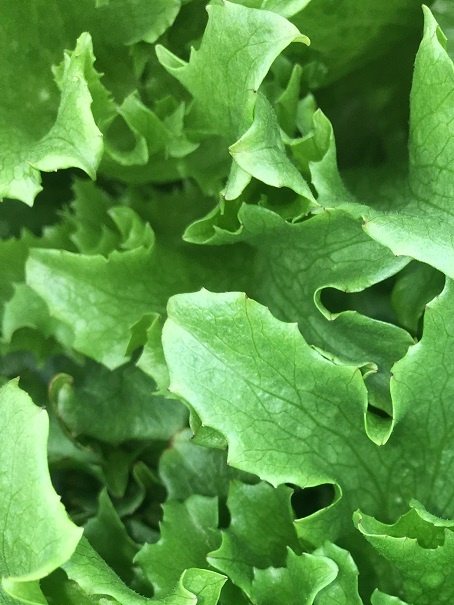tipburn: (354, 214, 374, 233), (163, 432, 182, 452), (161, 382, 179, 399), (62, 370, 79, 387), (224, 142, 240, 159), (37, 398, 53, 415), (217, 190, 232, 205), (390, 248, 404, 263), (248, 85, 261, 98), (355, 514, 367, 528), (422, 301, 434, 313)
